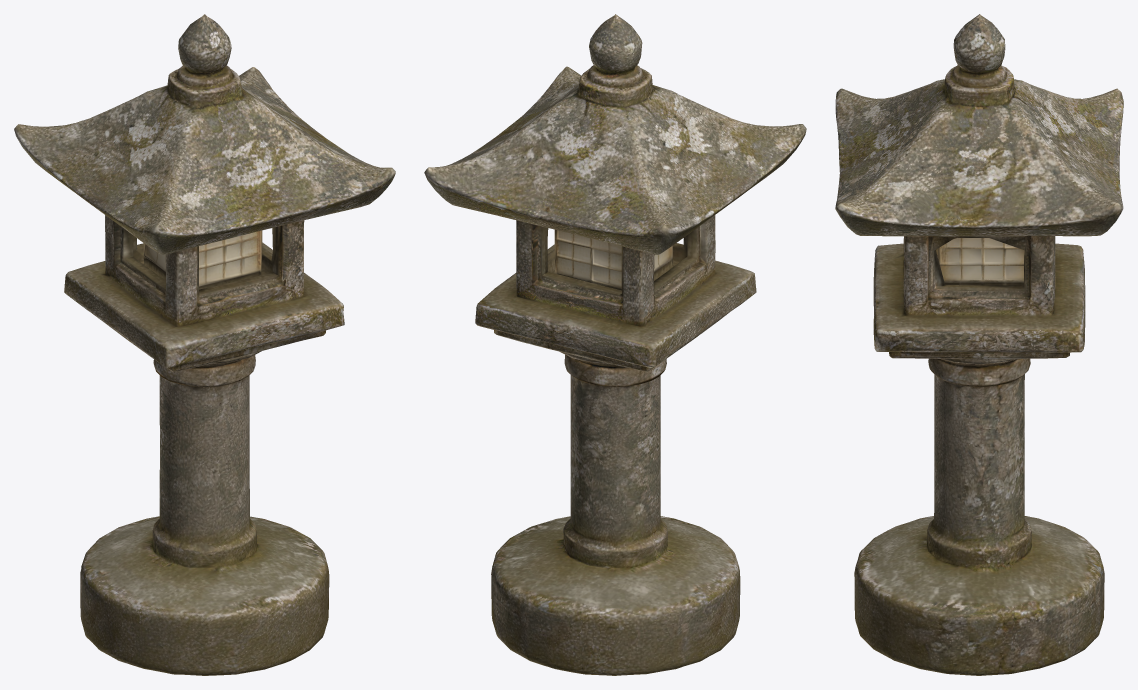
The model's file is lantern.glb.
3 views of the same model, side by side, from view 1: azimuth 30°, elevation 25°; view 2: azimuth 150°, elevation 25°; view 3: azimuth 270°, elevation 25° (orthographic).
Parts seen in each view (by area): view 1: tripo_node_c442a5bb-472d-4d3a-adb6-5712dac444f3; view 2: tripo_node_c442a5bb-472d-4d3a-adb6-5712dac444f3; view 3: tripo_node_c442a5bb-472d-4d3a-adb6-5712dac444f3.
Part boxes in pixels (box(x1,y1,x2,y2)): tripo_node_c442a5bb-472d-4d3a-adb6-5712dac444f3: box(14, 14, 395, 675); tripo_node_c442a5bb-472d-4d3a-adb6-5712dac444f3: box(424, 14, 806, 675); tripo_node_c442a5bb-472d-4d3a-adb6-5712dac444f3: box(835, 14, 1123, 675).
Size of the model in its own units: 0.7367 by 1.75 by 0.7463.
1 material, 1 textured.
